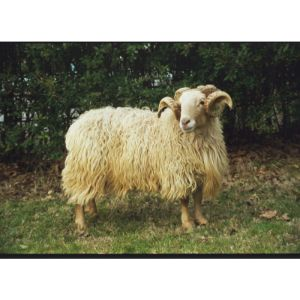sheep: (62, 82, 234, 235)
